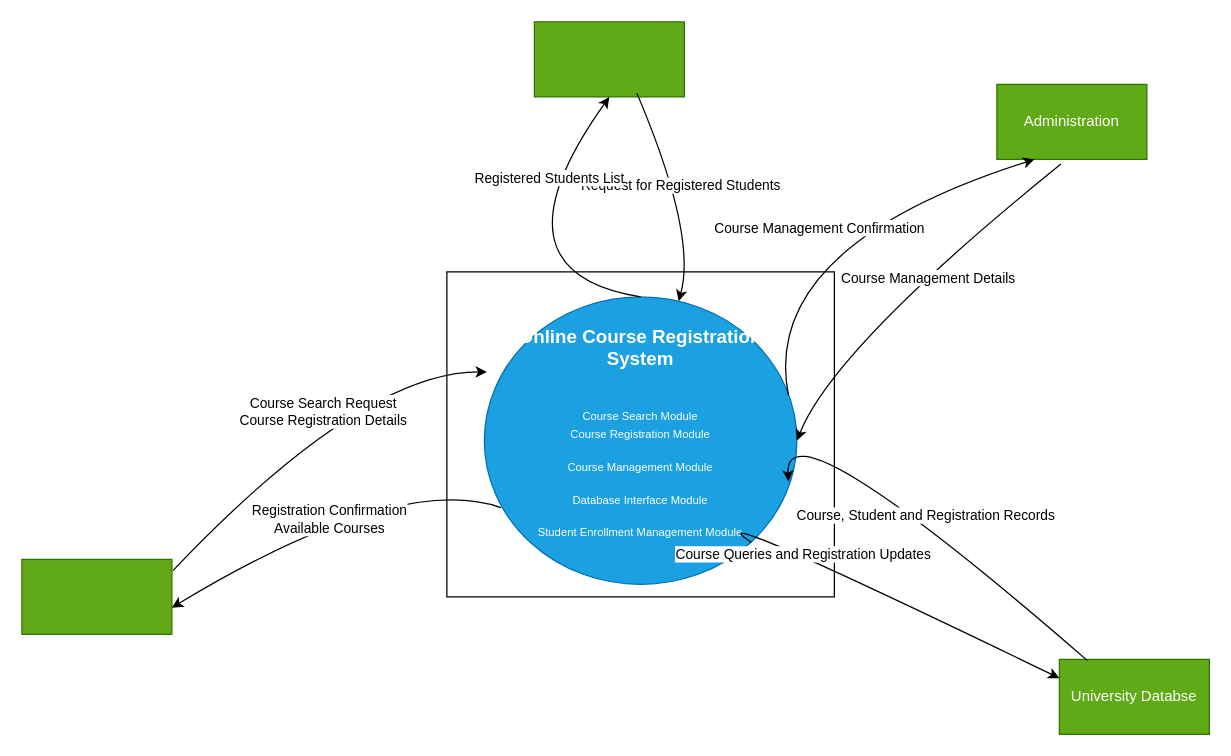
Some shapes in this 1231 by 756 pixel diagram are drawn without their labels. The box of each missing label's shape, as (x1, y1, x2, y2) in pixels:
Students: (21, 558, 172, 634)
Teachers: (533, 21, 684, 97)
